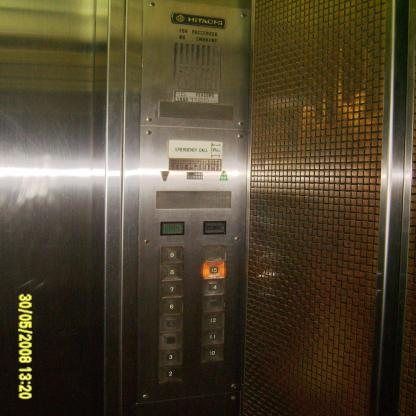10: (200, 342, 225, 362)
11: (200, 328, 225, 346)
12: (200, 310, 225, 330)
14: (200, 278, 226, 297)
15: (201, 261, 226, 280)
2: (158, 364, 184, 384)
3: (158, 347, 184, 367)
5: (158, 314, 184, 334)
6: (158, 297, 184, 317)
7: (158, 281, 184, 300)
8: (159, 263, 184, 283)
9: (159, 245, 184, 265)
blur: (158, 330, 184, 350), (200, 294, 225, 314), (201, 244, 226, 262)
text_blur: (160, 221, 184, 236)
text_close door: (202, 220, 226, 235)
